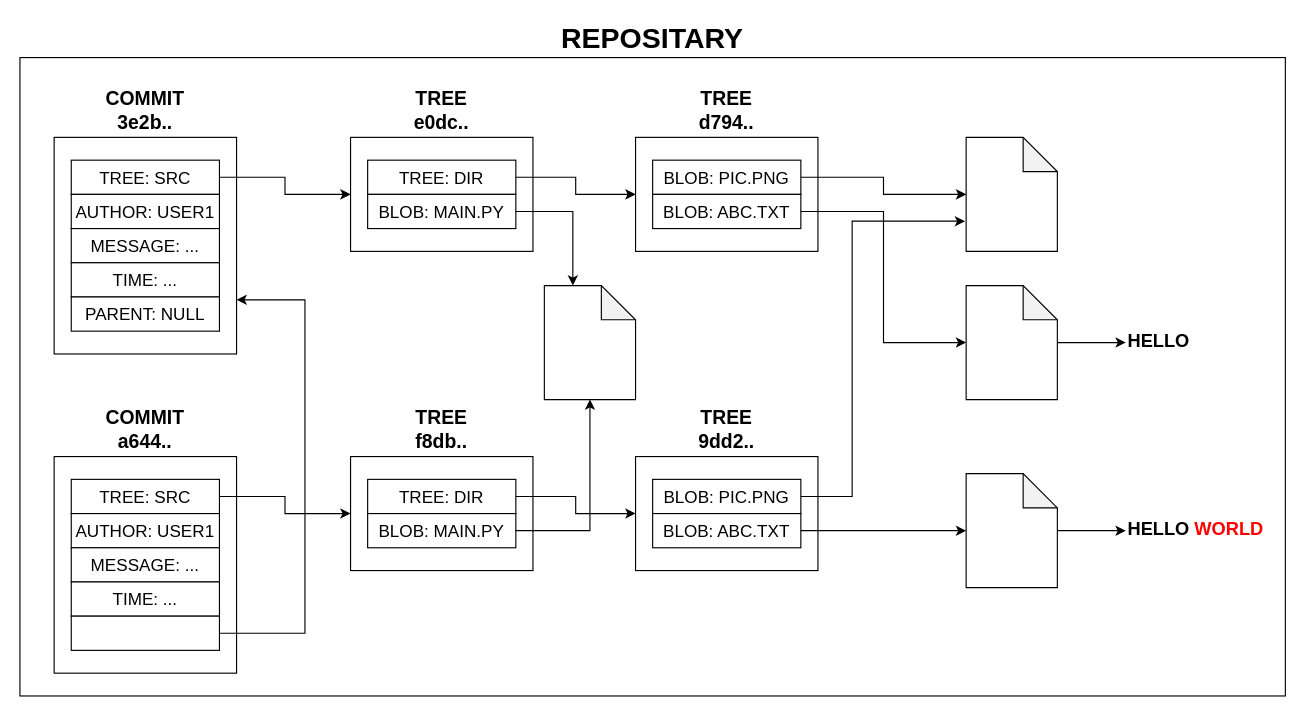
The diagram is 1305 pixels wide and 716 high, and some of its shapes have lost their labels. Each missing label, with the centre of its shape:
"BLOB 63f6.." belongs at pixel 1011 193.
"BLOB 7026.." belongs at pixel 1011 530.
"BLOB d279.." belongs at pixel 589 342.
"BLOB fe79.." belongs at pixel 1011 342.
"PARENT: 3e2b.." belongs at pixel 144 632.
